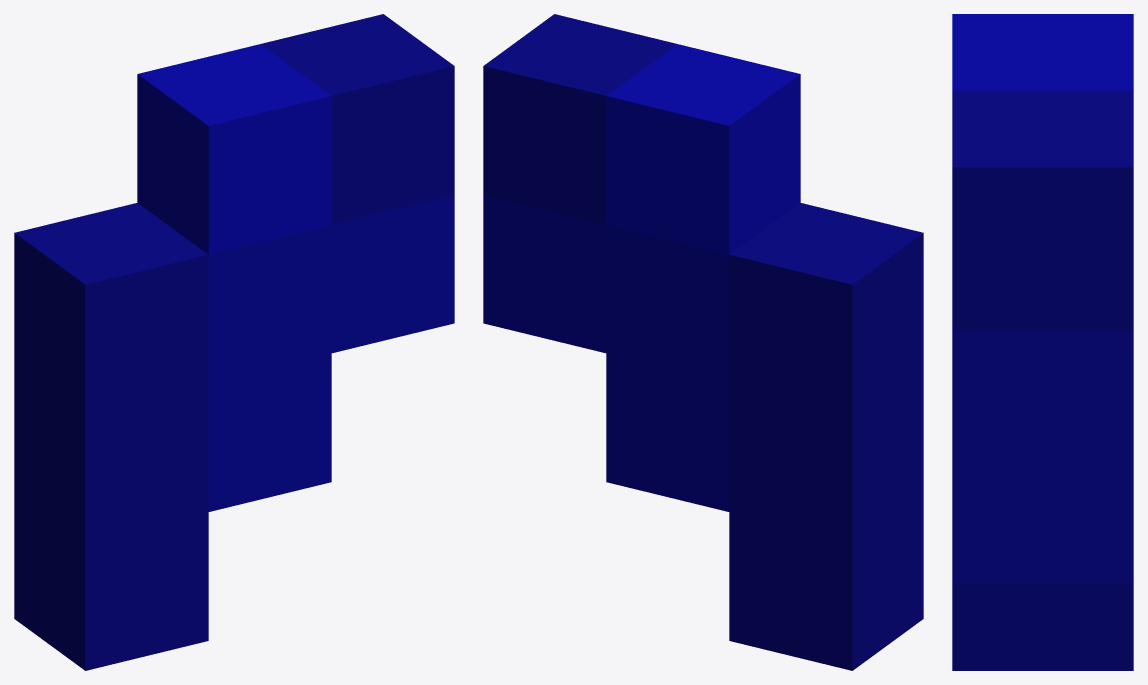
The model's file is Pez Pequeñito-0.obj.
3 renders of one model, left to right at view 1: azimuth 30°, elevation 25°; view 2: azimuth 150°, elevation 25°; view 3: azimuth 270°, elevation 25°, orthographic. The views are drawn at different scales.
Size of the model in its own units: 0.3 by 0.4 by 0.1.
Materials: 1 (1 with a texture image).
